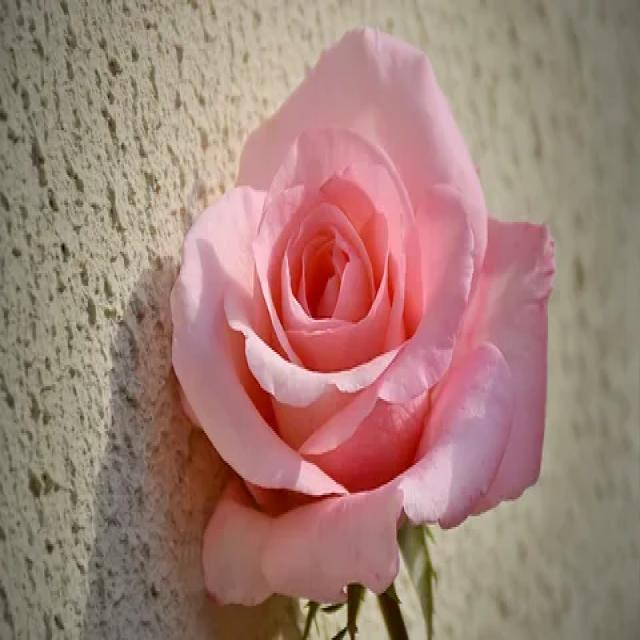rose: (162, 21, 560, 618)
